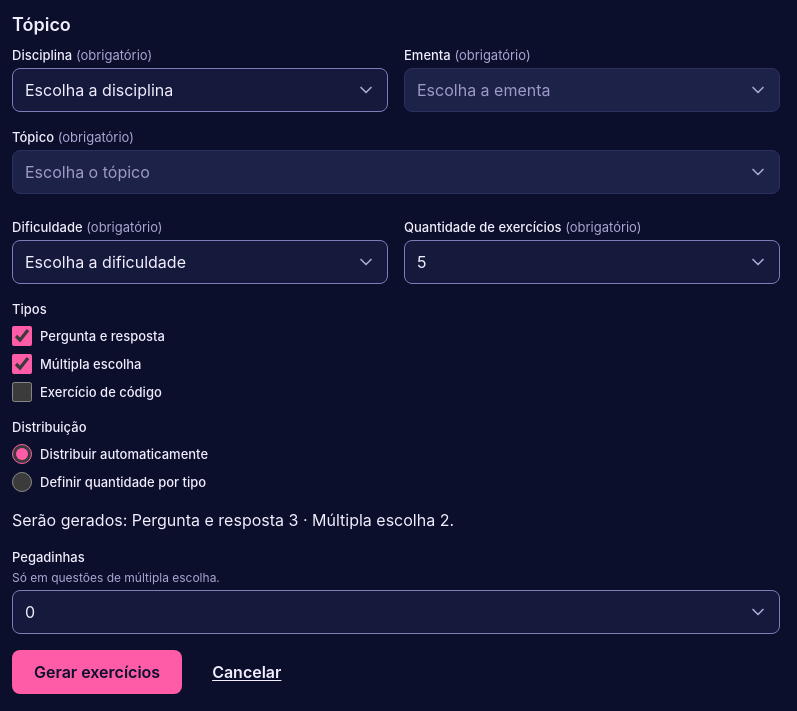
010/US2 GenerationForm — Criar com IA › 010/US2-5 pegadinhas só com Múltipla escolha
expect the dropdown labelled "Disciplina (obrigatório)" is shown: met, box [12,68,388,112]
expect the dropdown labelled "Pegadinhas" is enabled: met, box [12,590,780,634]
Click the checkbox labelled "Múltipla escolha": (22, 364) [12,354,32,374]
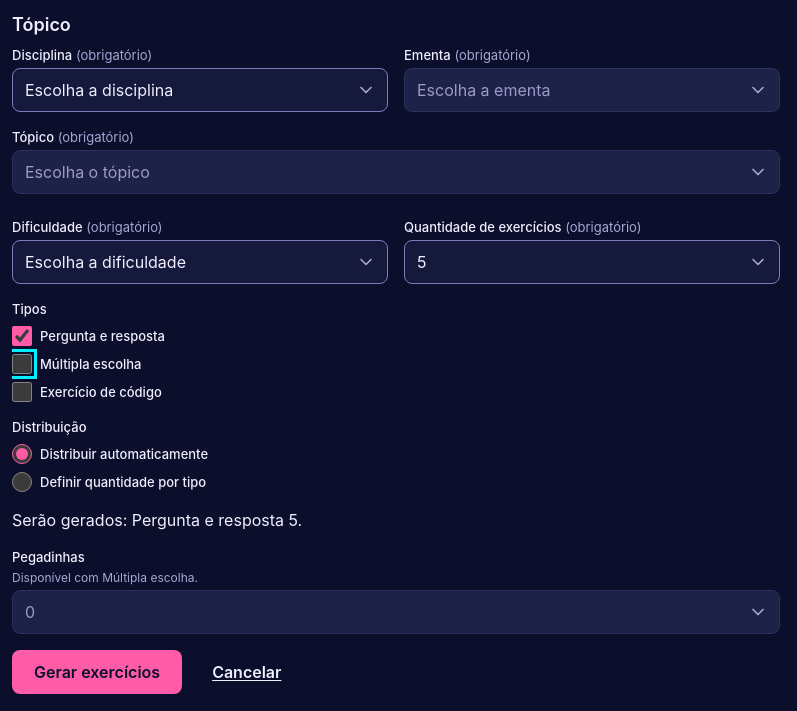
expect the dropdown labelled "Pegadinhas" is disabled: met, box [12,590,780,634]
